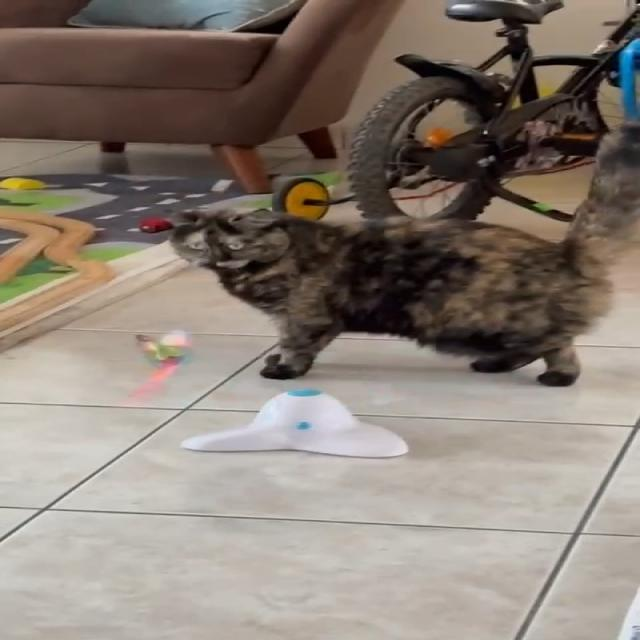authorized: (168, 121, 639, 386)
